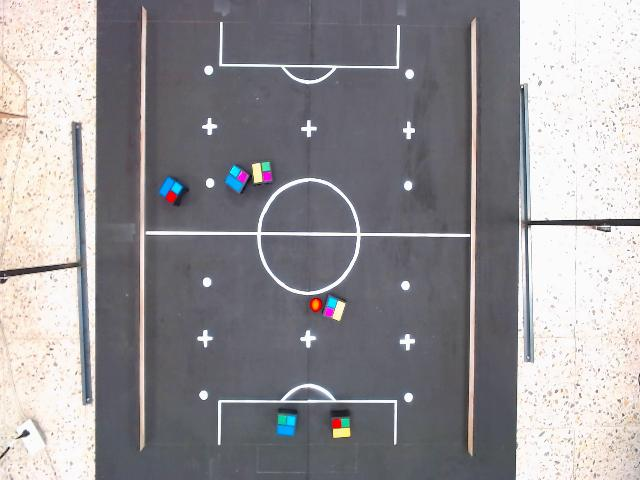robot: (157, 175, 185, 205), (321, 292, 348, 323), (223, 163, 249, 195), (328, 415, 354, 441), (275, 411, 298, 439), (250, 160, 274, 186)
